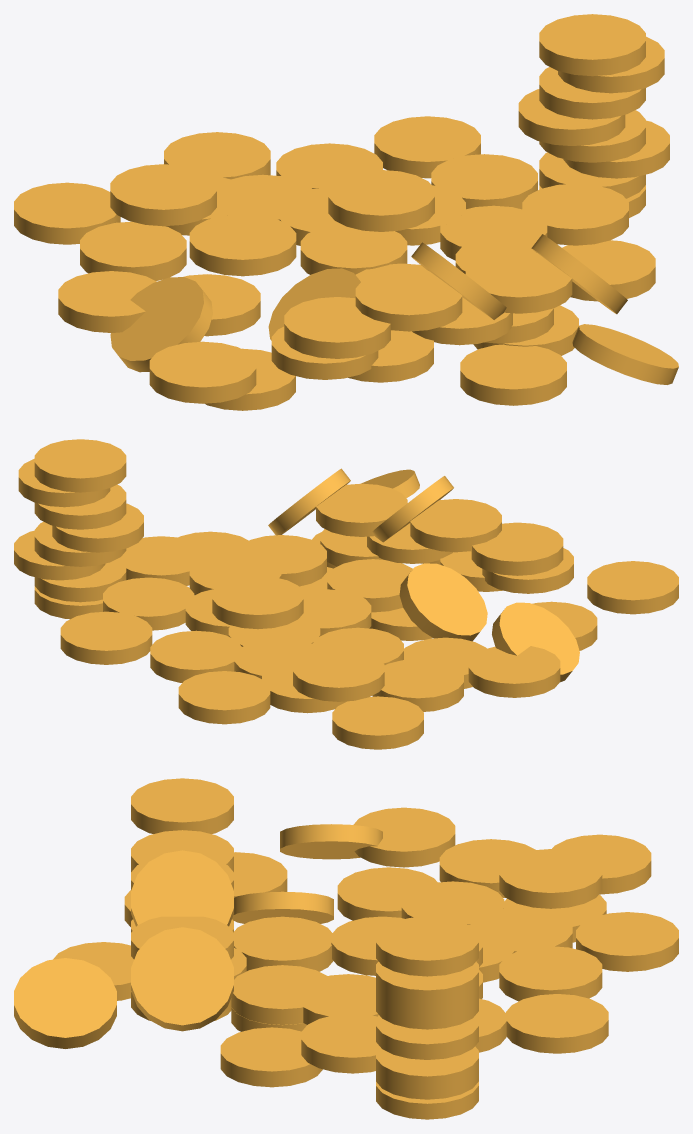
Rendered from Pile of Gold Coins 001.FBX.
The picture shows the model from 3 angles, top to bottom: view 1: azimuth 30°, elevation 25°; view 2: azimuth 150°, elevation 25°; view 3: azimuth 270°, elevation 25°; orthographic projection. The views are drawn at different scales.
Parts seen in each view (by area): view 1: Gold Coin034, Gold Coin056, Gold Coin066, Gold Coin058, Gold Coin057, Gold Coin047, Gold Coin030, Gold Coin051, Gold Coin036, Gold Coin055, Gold Coin040, Gold Coin042 (+30 smaller); view 2: Gold Coin024, Gold Coin044, Gold Coin066, Gold Coin057, Gold Coin056, Gold Coin058, Gold Coin042, Gold Coin043, Gold Coin041, Gold Coin051, Gold Coin055, Gold Coin034 (+32 smaller); view 3: Gold Coin054, Gold Coin048, Gold Coin053, Gold Coin058, Gold Coin066, Gold Coin044, Gold Coin043, Gold Coin056, Gold Coin022, Gold Coin031, Gold Coin038, Gold Coin041 (+26 smaller).
Part boxes in pixels (x1,y1,x2,y2): Gold Coin034: [110, 277, 212, 372]; Gold Coin056: [149, 341, 256, 403]; Gold Coin066: [539, 14, 645, 76]; Gold Coin058: [110, 164, 216, 226]; Gold Coin057: [328, 170, 434, 231]; Gold Coin047: [460, 344, 566, 405]; Gold Coin030: [189, 215, 296, 276]; Gold Coin051: [355, 269, 462, 331]; Gold Coin036: [522, 183, 628, 245]; Gold Coin055: [284, 297, 390, 358]; Gold Coin040: [80, 221, 186, 280]; Gold Coin042: [14, 182, 120, 244]; Gold Coin024: [399, 563, 487, 641]; Gold Coin044: [60, 611, 152, 664]; Gold Coin066: [34, 439, 126, 492]; Gold Coin057: [212, 576, 303, 629]; Gold Coin056: [587, 561, 678, 614]; Gold Coin058: [293, 648, 384, 701]; Gold Coin042: [332, 696, 423, 749]; Gold Coin043: [178, 671, 270, 724]; Gold Coin041: [468, 646, 560, 697]; Gold Coin051: [410, 499, 501, 552]; Gold Coin055: [471, 522, 563, 575]; Gold Coin034: [492, 602, 579, 682]; Gold Coin054: [131, 927, 233, 1031]; Gold Coin048: [14, 958, 116, 1048]; Gold Coin053: [131, 850, 233, 926]; Gold Coin058: [499, 849, 602, 908]; Gold Coin066: [376, 916, 478, 976]; Gold Coin044: [506, 994, 608, 1053]; Gold Coin043: [576, 912, 678, 971]; Gold Coin056: [131, 778, 233, 833]; Gold Coin022: [231, 965, 333, 1024]; Gold Coin031: [220, 1027, 322, 1087]; Gold Coin038: [499, 946, 602, 1001]; Gold Coin041: [353, 807, 455, 867].
Bounding box in the file's own units: 0.4058 × 0.1065 × 0.3819.
